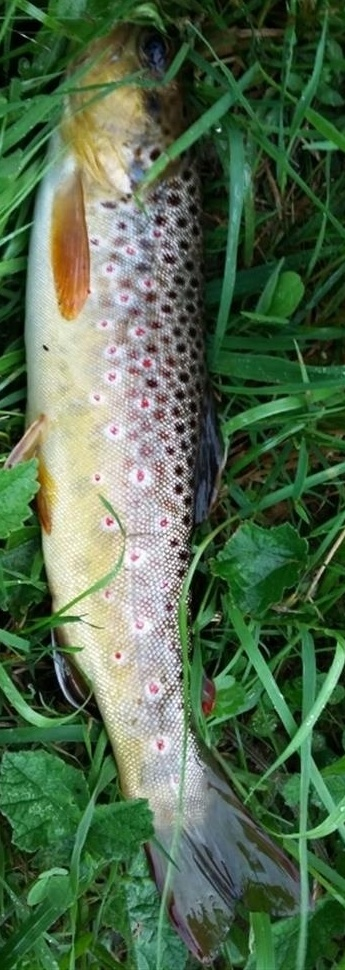Salmo trutta subsp. fario: (20, 20, 325, 967)
